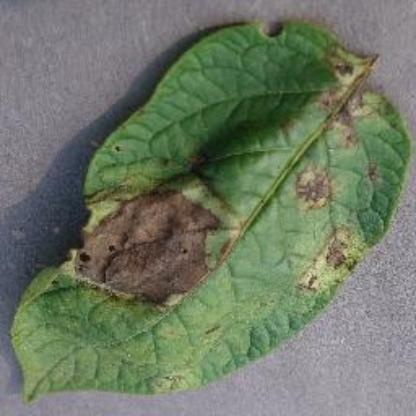Late-Blight: (6, 7, 410, 406)
